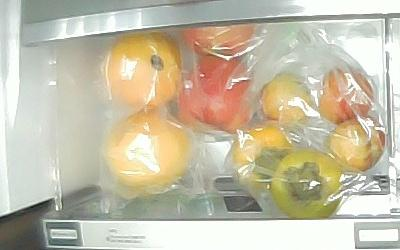apple_vinyl: (175, 56, 255, 134), (177, 22, 257, 58)
grapefruit_vinyl: (104, 112, 189, 189), (105, 31, 181, 108)
persimmon_vinyl: (269, 148, 343, 219), (232, 125, 292, 187)
prune_vinyl: (317, 68, 373, 124), (330, 115, 386, 170), (258, 75, 312, 123)
